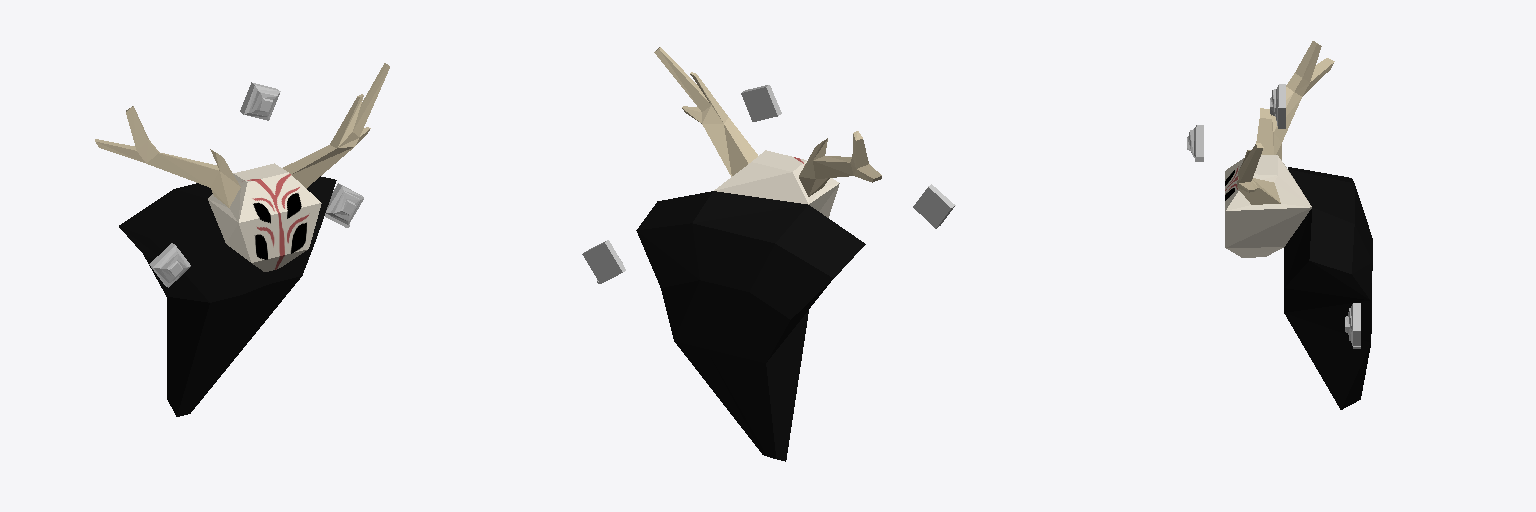
The picture shows the model from 3 angles: view 1: azimuth 30°, elevation 25°; view 2: azimuth 150°, elevation 25°; view 3: azimuth 270°, elevation 25°; orthographic projection.
Parts seen in each view (by area): view 1: antlerdemon, antlerdemon spookyorb1, antlerdemon spookyorb2, antlerdemon spookyorb3; view 2: antlerdemon, antlerdemon spookyorb1, antlerdemon spookyorb2, antlerdemon spookyorb3; view 3: antlerdemon, antlerdemon spookyorb1, antlerdemon spookyorb2.
Boxes of the visible parts, box(x1,y1,x2,y2) form: antlerdemon: box(95, 63, 389, 416); antlerdemon spookyorb1: box(325, 183, 363, 227); antlerdemon spookyorb2: box(240, 82, 280, 120); antlerdemon spookyorb3: box(149, 243, 190, 287); antlerdemon: box(636, 47, 881, 461); antlerdemon spookyorb1: box(582, 240, 625, 283); antlerdemon spookyorb2: box(741, 85, 781, 121); antlerdemon spookyorb3: box(913, 184, 955, 228); antlerdemon: box(1225, 41, 1372, 409); antlerdemon spookyorb1: box(1345, 303, 1360, 348); antlerdemon spookyorb2: box(1270, 84, 1285, 128).
Size of the model in its own units: 40.73 by 45.99 by 22.5.
2 materials, 1 textured.